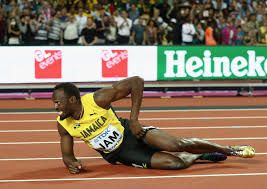10+: (1, 1, 267, 176)
down: (43, 73, 261, 176)
